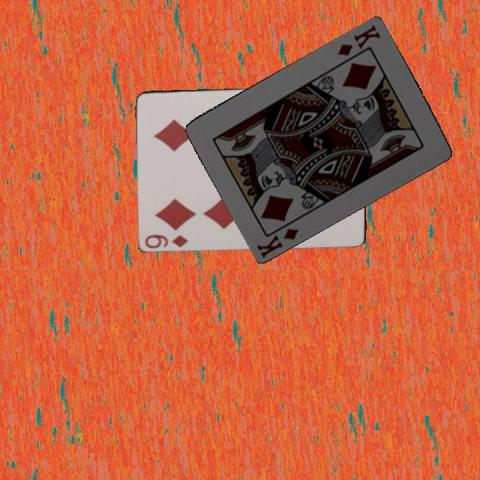9d: (143, 231, 190, 248)
Kd: (335, 21, 382, 57), (254, 225, 301, 259)
